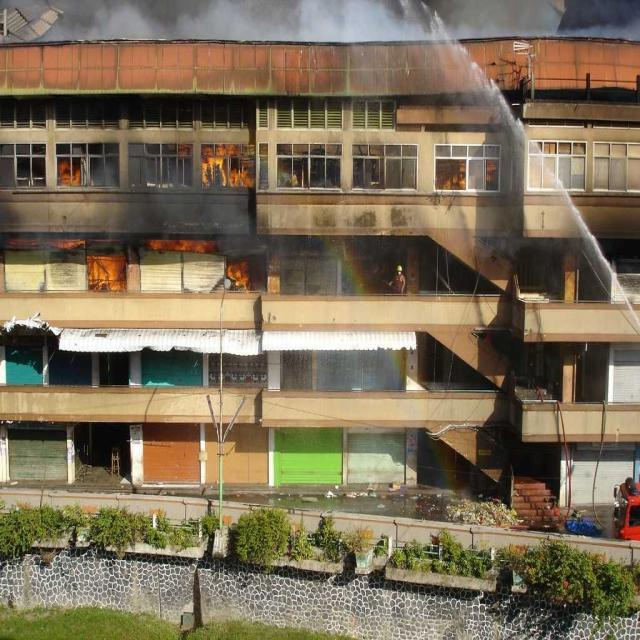Fire: (206, 146, 248, 188), (90, 252, 129, 290), (228, 260, 252, 288)
